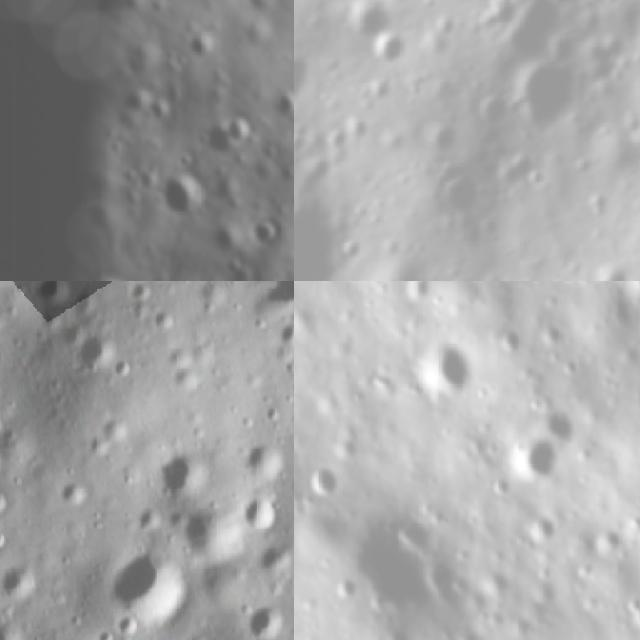crater: (488, 0, 581, 75), (101, 551, 184, 632), (514, 60, 583, 145), (169, 508, 235, 564), (428, 164, 485, 227), (416, 340, 472, 401), (158, 173, 208, 224), (158, 447, 206, 498), (69, 329, 121, 371), (241, 438, 287, 484), (368, 29, 416, 71), (294, 459, 344, 497), (476, 89, 514, 137), (518, 438, 560, 478), (0, 563, 38, 607), (421, 118, 463, 156), (245, 604, 288, 640), (200, 120, 237, 161), (240, 495, 279, 533), (224, 114, 264, 150), (252, 540, 294, 574), (206, 223, 242, 260), (294, 51, 316, 107), (249, 218, 285, 252), (184, 28, 217, 64), (26, 281, 72, 305), (591, 257, 634, 281), (270, 92, 294, 124), (277, 317, 294, 353), (113, 616, 138, 638), (0, 487, 12, 520)
